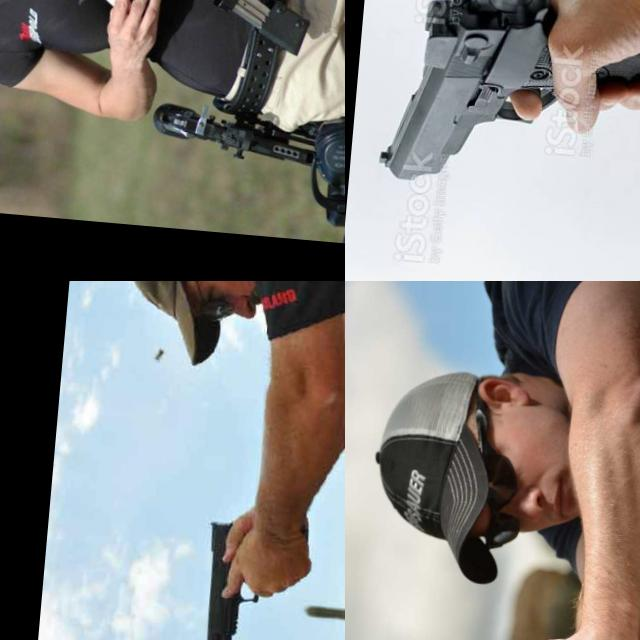handgun: (372, 0, 640, 210), (195, 515, 265, 640), (58, 0, 151, 62)
